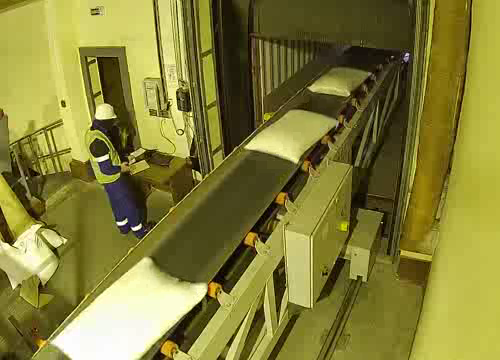bag: (48, 248, 212, 360), (237, 107, 339, 164), (304, 62, 375, 98)
